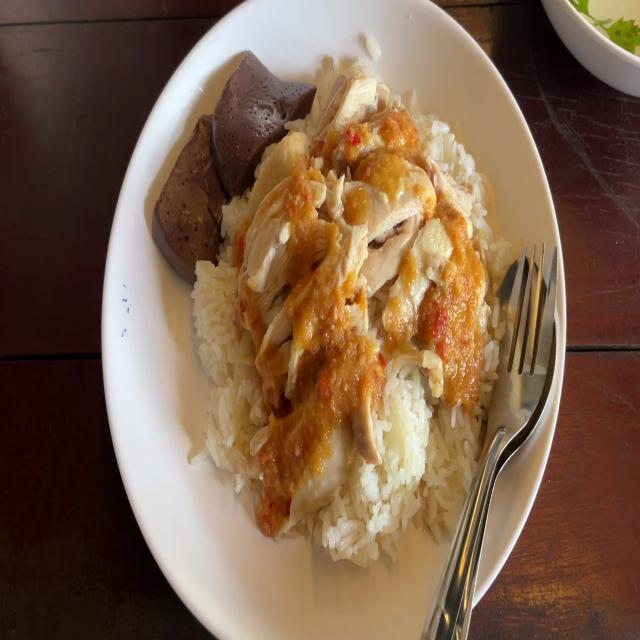boiled_chicken: (269, 87, 456, 435)
boiled_chicken_blood_jelly: (213, 48, 314, 169), (154, 111, 228, 271)
chicken_rice: (153, 28, 512, 569)
